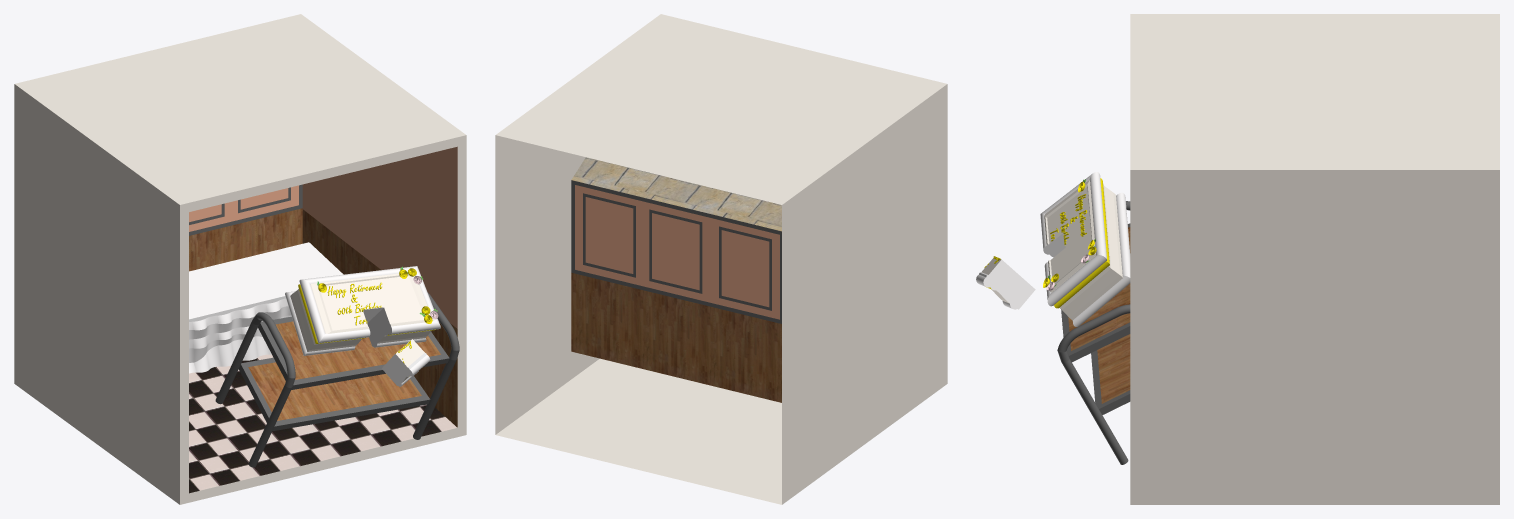
Rendered from environment3.gltf.
The picture shows the model from 3 angles, left to right: view 1: azimuth 30°, elevation 25°; view 2: azimuth 150°, elevation 25°; view 3: azimuth 270°, elevation 25°; orthographic projection. The views are drawn at different scales.
Visible parts, largest first — view 1: group_49.003, group_49, group_49.004, group_49.001, group_49.005, group_6.058, group_3.003, group_50, group_6, group_3.001, group_3.005, group_1 (+6 smaller); view 2: group_49.003, group_49.001, group_49.007, group_49.002, group_49.009, group_49.017, group_49.016, group_49.006, group_49.011, group_49.008, group_49.010; view 3: group_49.003, group_6.058, group_6, group_2, group_3.003, group_4, group_3.001, group_3, group_3.005, group_6.046.
Boxes of the visible parts, x1,y1,x2,y2 form: group_49.003: [14, 14, 466, 504]; group_49: [302, 146, 457, 328]; group_49.004: [189, 354, 457, 493]; group_49.001: [189, 208, 457, 427]; group_49.005: [189, 242, 343, 321]; group_6.058: [290, 273, 433, 351]; group_3.003: [248, 362, 421, 420]; group_50: [189, 298, 291, 373]; group_6: [285, 266, 440, 355]; group_3.001: [275, 321, 440, 379]; group_3.005: [239, 357, 430, 431]; group_1: [215, 312, 295, 467]; group_49.003: [495, 14, 947, 504]; group_49.001: [571, 272, 781, 402]; group_49.007: [575, 185, 779, 319]; group_49.002: [571, 157, 781, 231]; group_49.009: [721, 230, 769, 307]; group_49.017: [585, 197, 633, 273]; group_49.016: [652, 213, 699, 290]; group_49.006: [571, 180, 781, 323]; group_49.011: [649, 209, 702, 293]; group_49.008: [719, 226, 771, 310]; group_49.010: [583, 193, 635, 277]; group_49.003: [1130, 14, 1499, 504]; group_6.058: [1044, 180, 1122, 320]; group_6: [1040, 172, 1130, 326]; group_2: [1057, 304, 1130, 464]; group_3.003: [1097, 334, 1130, 403]; group_4: [976, 259, 1035, 309]; group_3.001: [1068, 227, 1130, 350]; group_3: [1061, 223, 1130, 362]; group_3.005: [1091, 350, 1130, 414]; group_6.046: [1054, 178, 1109, 308].
Size of the model in its own units: 6.5 by 6.5 by 9.22.
11 materials, 3 textured.
